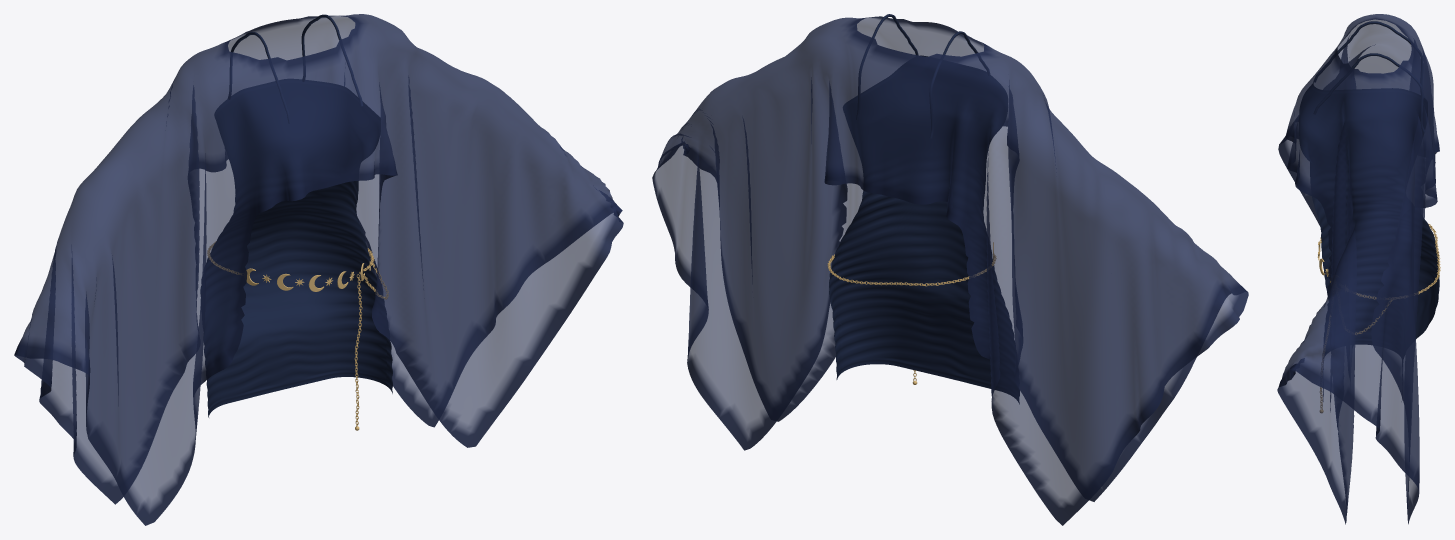
The model's file is vestido-capa-talla-M.glb.
3 renders of one model, left to right at view 1: azimuth 30°, elevation 25°; view 2: azimuth 150°, elevation 25°; view 3: azimuth 270°, elevation 25°, orthographic. The views are drawn at different scales.
Parts seen in each view (by area): view 1: capa-malla, vestido-tirantes, cadena-lunas; view 2: capa-malla, vestido-tirantes; view 3: capa-malla, vestido-tirantes, tirante (×2), cadena.
Boxes of the visible parts, x1,y1,x2,y2 form: capa-malla: [14, 14, 623, 525]; vestido-tirantes: [200, 79, 392, 417]; cadena-lunas: [246, 261, 370, 430]; capa-malla: [652, 16, 1248, 525]; vestido-tirantes: [829, 55, 1019, 403]; capa-malla: [1277, 14, 1439, 524]; vestido-tirantes: [1299, 82, 1439, 401]; tirante (×2): [1313, 21, 1425, 132]; cadena: [1356, 223, 1440, 299].
Bounding box in the file's own units: 1.27 × 0.9268 × 0.3294.
